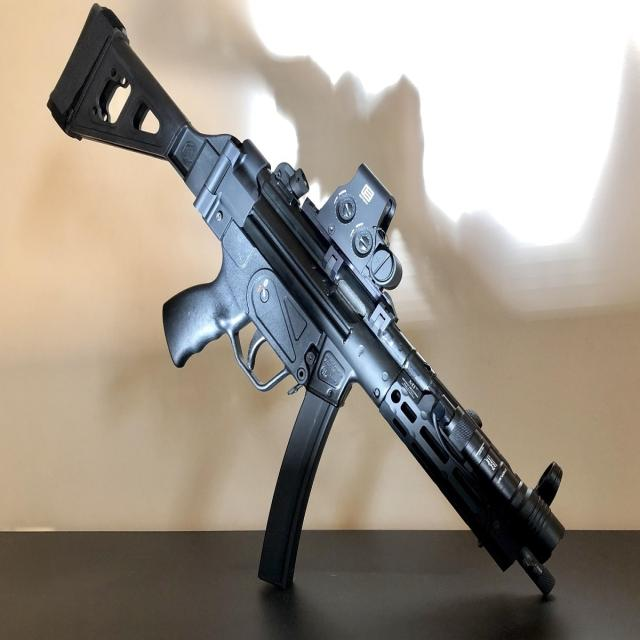SMG: (46, 5, 565, 603)
